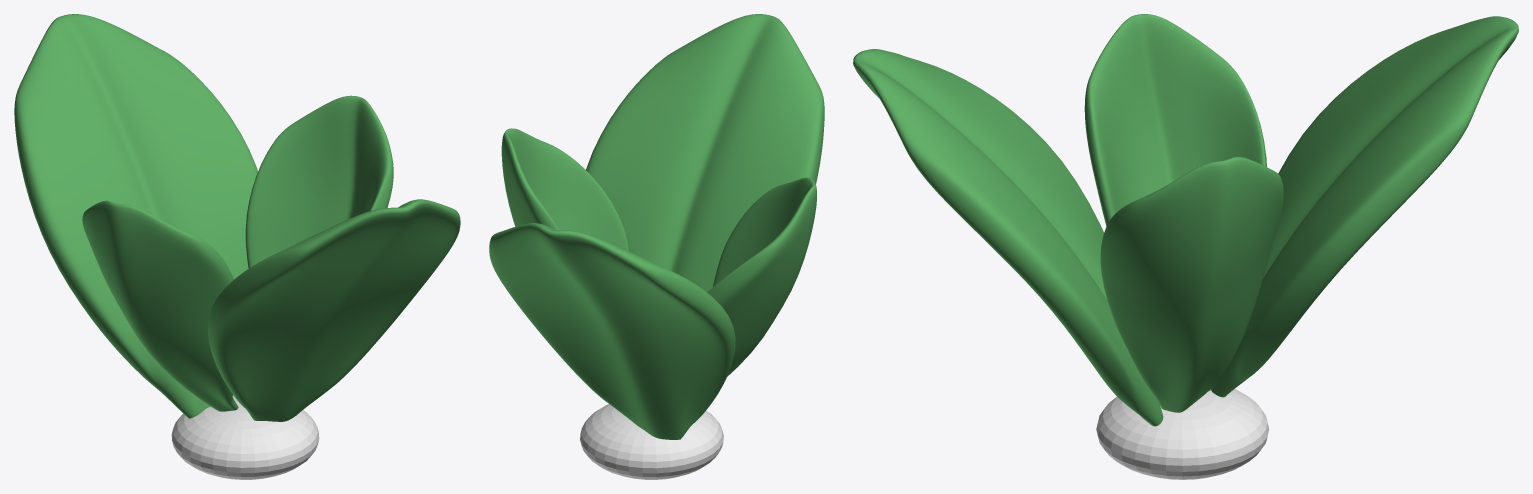
Rendered from Lettuce seedling.fbx.
The picture shows the model from 3 angles, left to right: view 1: azimuth 30°, elevation 25°; view 2: azimuth 150°, elevation 25°; view 3: azimuth 270°, elevation 25°; orthographic projection. The views are drawn at different scales.
Visible parts, largest first — view 1: Plane.002, Plane, Plane.003, Plane.001, Sphere; view 2: Plane, Plane.002, Plane.003, Plane.001, Sphere; view 3: Plane.002, Plane, Plane.001, Plane.003, Sphere.
Part boxes in pixels (bbox=[...]): Plane.002: bbox=[14, 14, 257, 418]; Plane: bbox=[208, 199, 460, 421]; Plane.003: bbox=[82, 200, 238, 411]; Plane.001: bbox=[245, 95, 393, 268]; Sphere: bbox=[171, 395, 319, 479]; Plane: bbox=[586, 14, 824, 292]; Plane.002: bbox=[489, 223, 735, 439]; Plane.003: bbox=[707, 177, 816, 376]; Plane.001: bbox=[501, 128, 628, 250]; Sphere: bbox=[580, 404, 723, 479]; Plane.002: bbox=[1211, 16, 1518, 397]; Plane: bbox=[853, 49, 1163, 426]; Plane.001: bbox=[1100, 156, 1283, 412]; Plane.003: bbox=[1084, 14, 1266, 390]; Sphere: bbox=[1096, 389, 1269, 479].
Size of the model in its own units: 3.56 by 4.17 by 6.04.
